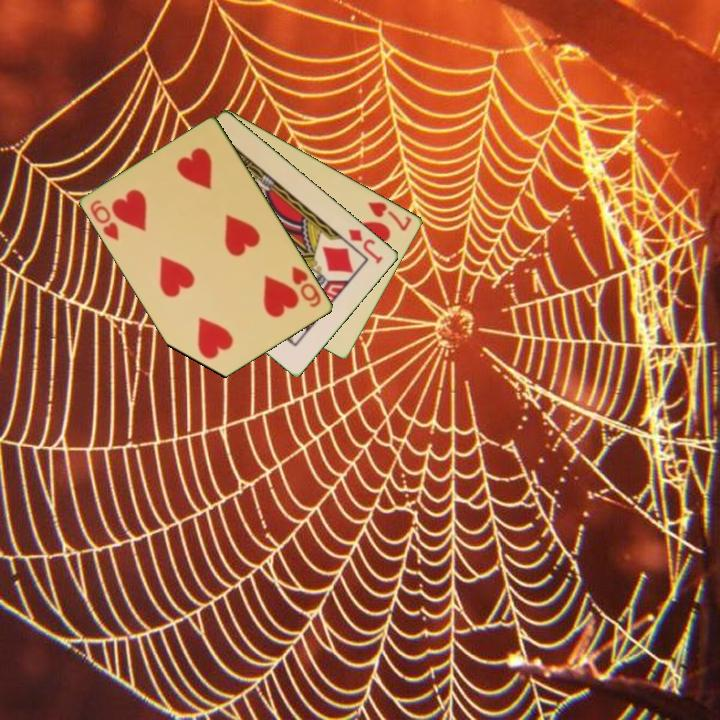6h: (87, 196, 122, 244), (289, 263, 324, 310)
7h: (365, 198, 415, 234)
Jd: (345, 225, 386, 267)
